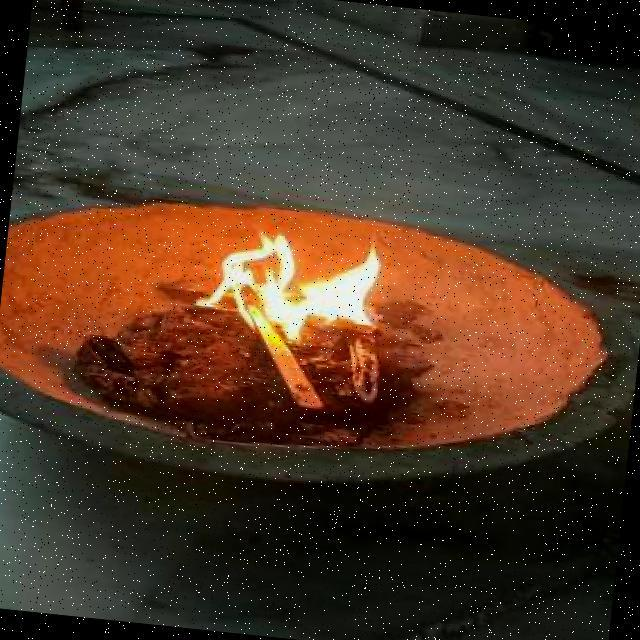Fire: (183, 203, 395, 353)
